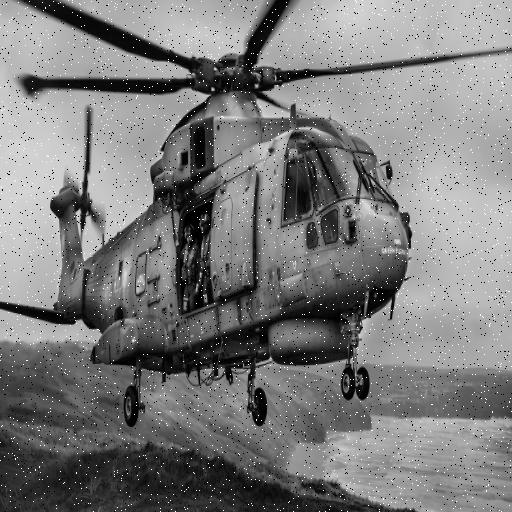helicopter: (1, 1, 512, 426)
